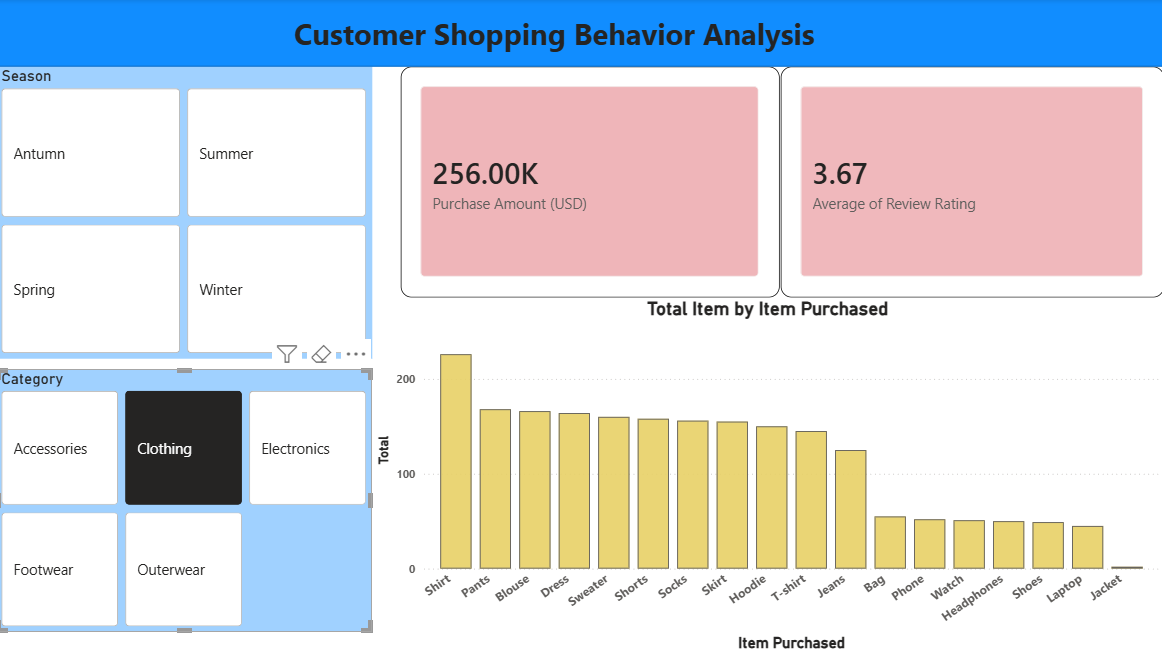

The dashboard page shown, as its layout file describes it:
{"tool":"powerbi","page":{"name":"Page 1","canvas":[1280,720],"ordinal":0},"visuals":[{"type":"cardVisual","fields":{"Data":["Avg(item.Review Rating)"]},"box":[859.7,74.2,420.6,253.6],"z":0},{"type":"cardVisual","title":"Purchase Amount (USD)","fields":{"Data":["Sum(item.Purchase Amount (USD))"]},"box":[443.8,74.2,415.9,253.6],"z":1000},{"type":"columnChart","title":"Total Item by Item Purchased","fields":{"Category":["item.Item Purchased"],"Y":["CountNonNull(item.Item Purchased)"]},"box":[411.3,327.8,869,392.8],"z":2000},{"type":"advancedSlicerVisual","fields":{"Values":["item.Season"]},"box":[0,74.2,411.3,332.4],"z":3000},{"type":"advancedSlicerVisual","fields":{"Values":["item.Category"]},"box":[0,406.7,411.3,287.6],"z":4000},{"type":"shape","box":[0,0,1280.3,74.2],"z":5000},{"type":"textbox","box":[321.6,10.8,660.3,52.6],"z":6000}]}

Visuals, with their boxes in screenshot pixels (x1, y1, x2, y2), scaled from the page's 1280x720 canvas onto the 1162x653 screenshot:
cardVisual - Avg(item.Review Rating): (left=780, top=67, right=1161, bottom=297)
"Purchase Amount (USD)" cardVisual: (left=403, top=67, right=780, bottom=297)
"Total Item by Item Purchased" columnChart: (left=373, top=297, right=1161, bottom=652)
advancedSlicerVisual - item.Season: (left=0, top=67, right=373, bottom=369)
advancedSlicerVisual - item.Category: (left=0, top=369, right=373, bottom=630)
shape: (left=0, top=0, right=1161, bottom=67)
textbox: (left=292, top=10, right=891, bottom=58)
